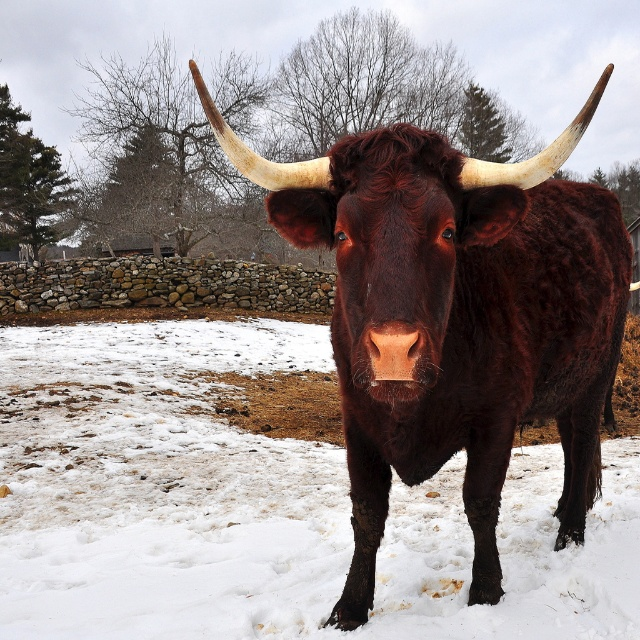Bull: (188, 61, 634, 632)
